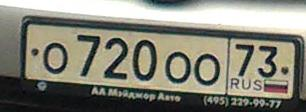license-plateSW: (23, 16, 297, 101)
